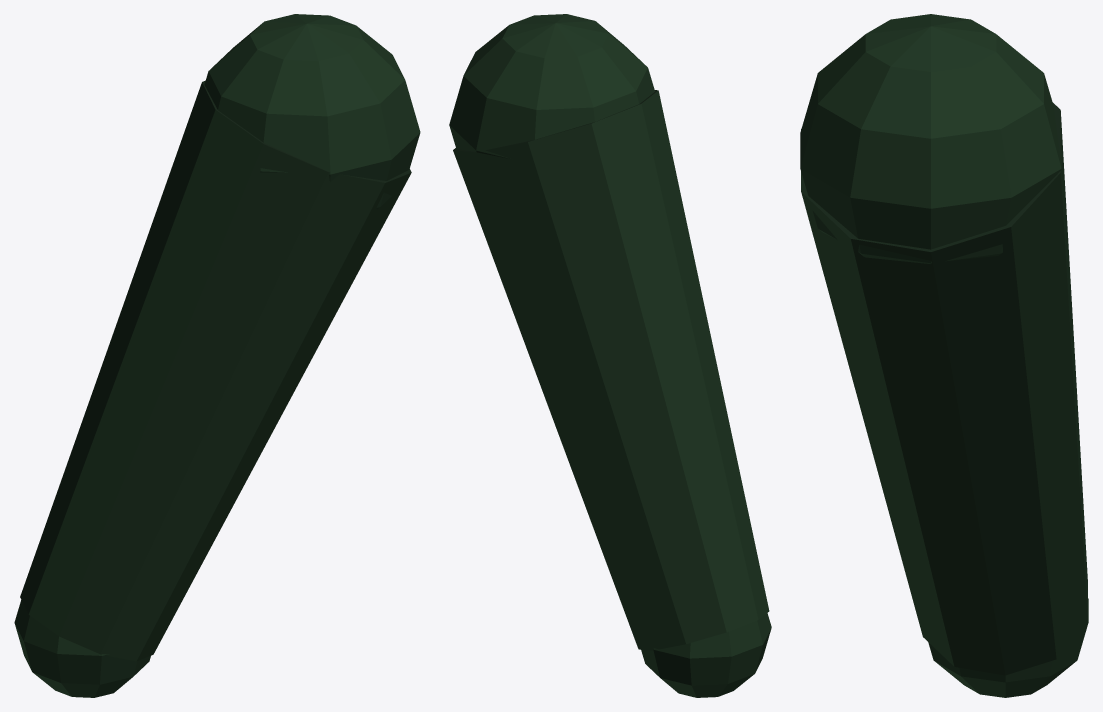
File: SM_velociraptor_hind_l_Lower.fbx
3 views of the same model, side by side, from view 1: azimuth 30°, elevation 25°; view 2: azimuth 150°, elevation 25°; view 3: azimuth 270°, elevation 25° (orthographic). The views are drawn at different scales.
Visible parts, largest first — view 1: SM_velociraptor_hind_l_Lower export; view 2: SM_velociraptor_hind_l_Lower export; view 3: SM_velociraptor_hind_l_Lower export.
Part boxes in pixels (<box>): SM_velociraptor_hind_l_Lower export: <box>14,14,420,697</box>; SM_velociraptor_hind_l_Lower export: <box>449,14,771,697</box>; SM_velociraptor_hind_l_Lower export: <box>800,14,1088,697</box>.
Size of the model in its own units: 117 by 69.28 by 205.
